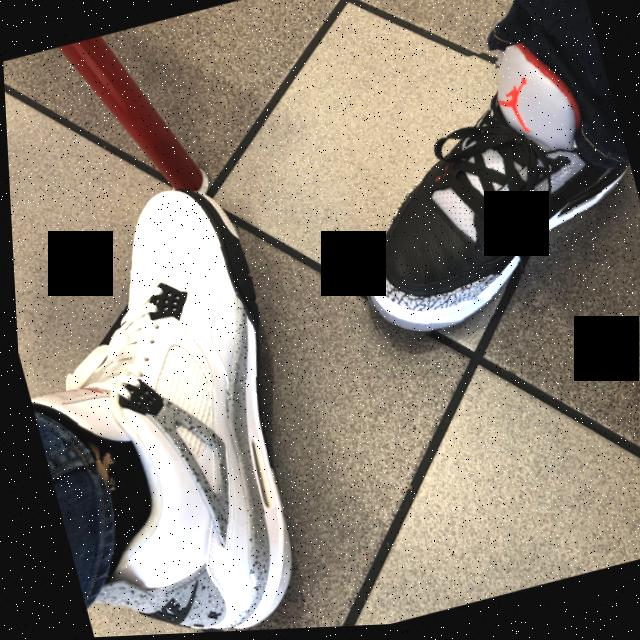shoe: (7, 172, 340, 640), (308, 28, 640, 353)
